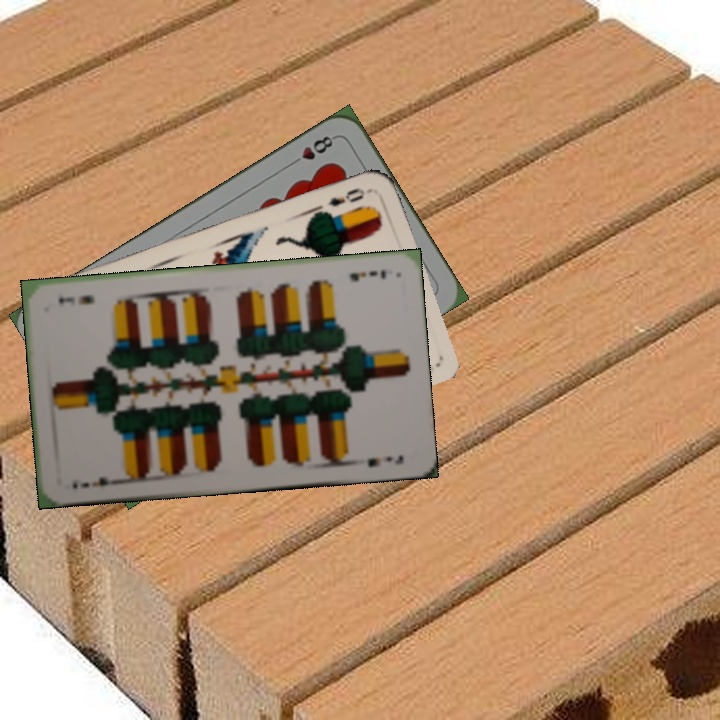E7: (69, 473, 121, 492), (346, 266, 389, 284)
EO: (324, 183, 368, 210)
H8: (286, 131, 339, 169)
